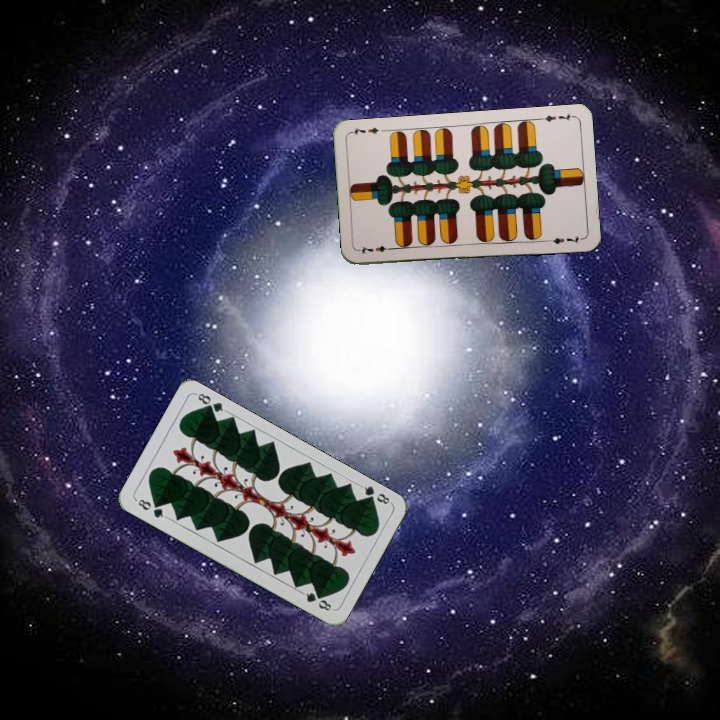E7: (535, 109, 576, 124), (356, 242, 396, 256)
G8: (356, 481, 394, 507), (132, 495, 169, 521)
